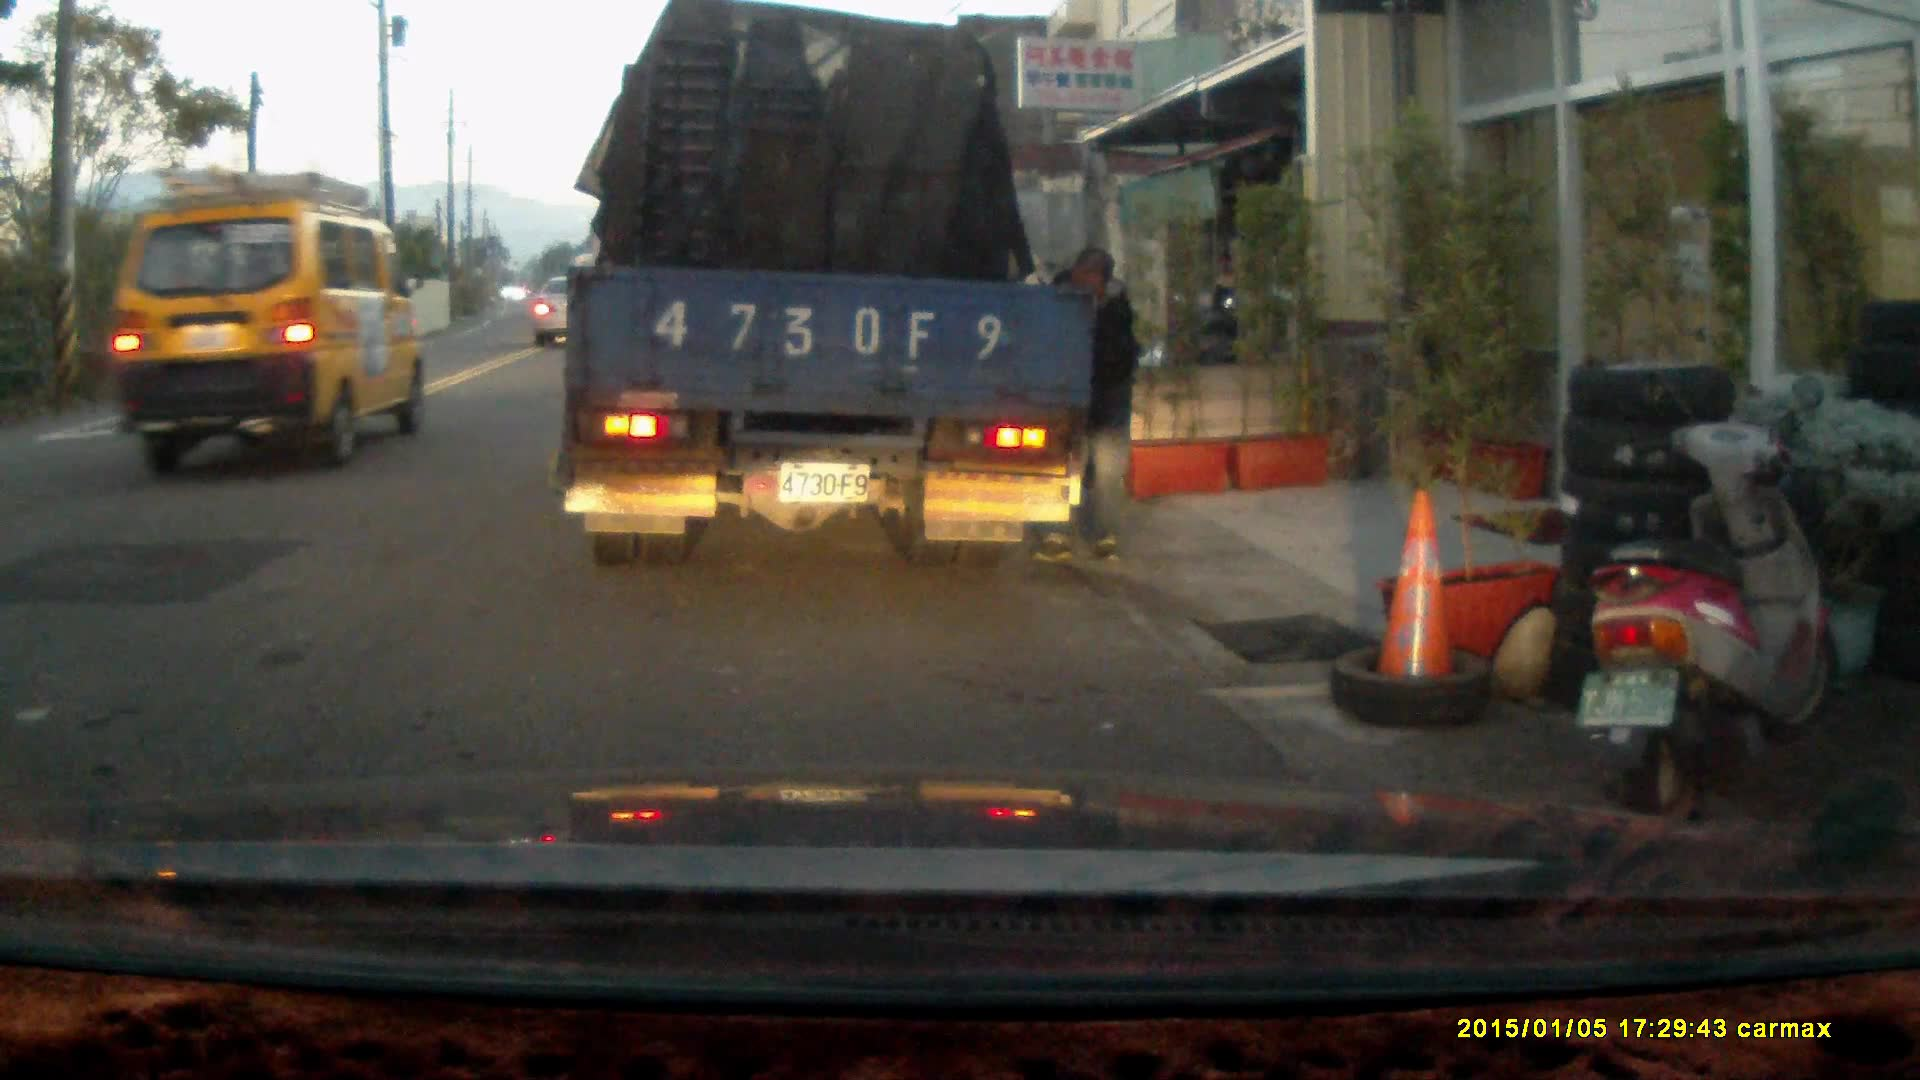pedestrian: (1025, 250, 1137, 564)
vehicle: (561, 24, 1083, 561), (112, 166, 422, 474), (533, 276, 596, 346)
